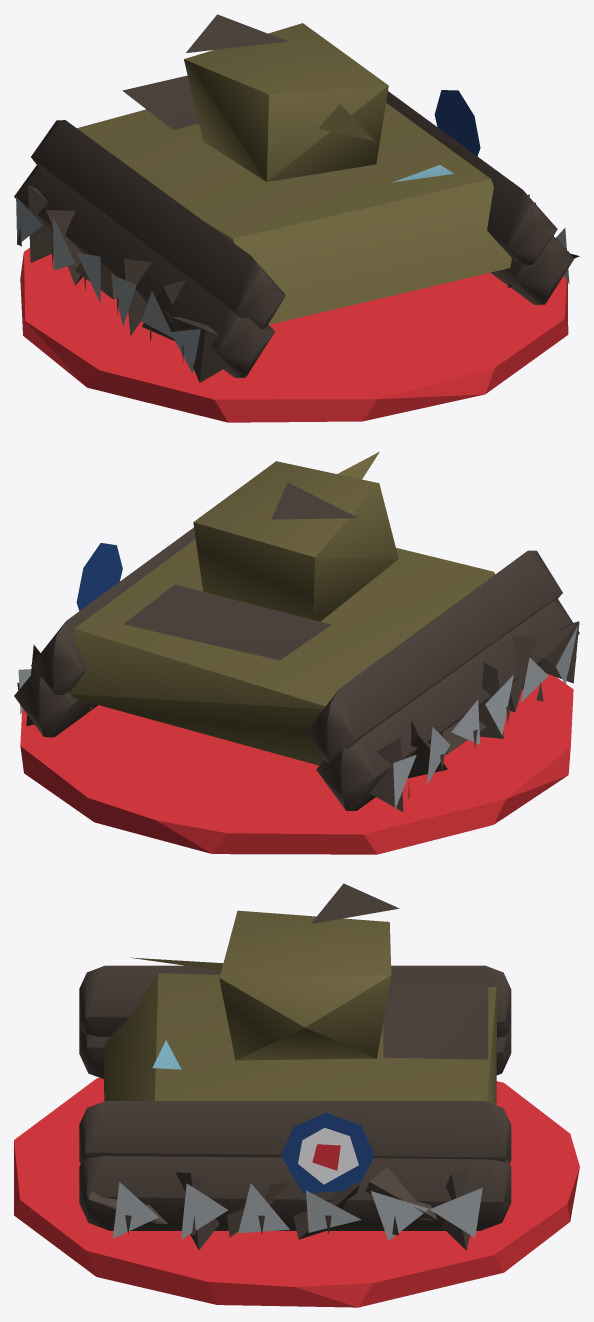
Rendered from united_kingdom_infantry_lod1.glb.
3 views of the same model, one above another, from view 1: azimuth 30°, elevation 25°; view 2: azimuth 150°, elevation 25°; view 3: azimuth 270°, elevation 25° (orthographic). The views are drawn at different scales.
Parts seen in each view (by area): view 1: body_hull, base_pedestal; view 2: body_hull, base_pedestal; view 3: body_hull, base_pedestal.
Part boxes in pixels (left/top/right/bottom): body_hull: left=14, top=14, right=579, bottom=382; base_pedestal: left=20, top=248, right=568, bottom=422; body_hull: left=14, top=451, right=579, bottom=811; base_pedestal: left=20, top=673, right=573, bottom=854; body_hull: left=79, top=883, right=511, bottom=1250; base_pedestal: left=14, top=1078, right=579, bottom=1307.
Bounding box in the file's own units: 0.7751 × 0.4039 × 0.7751.
